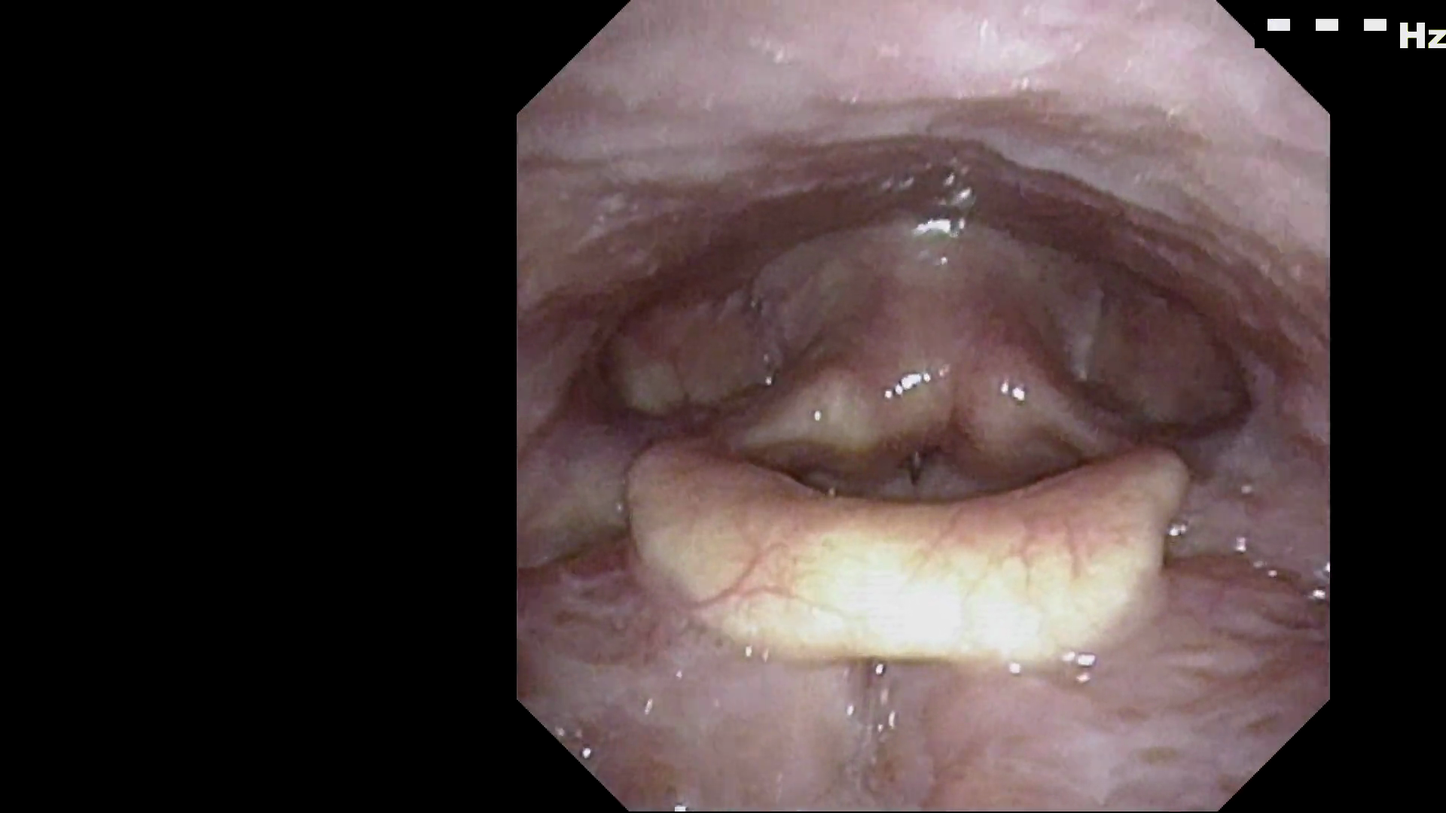epiglottis: (603, 416, 1232, 699)
trachea: (863, 390, 978, 530)
